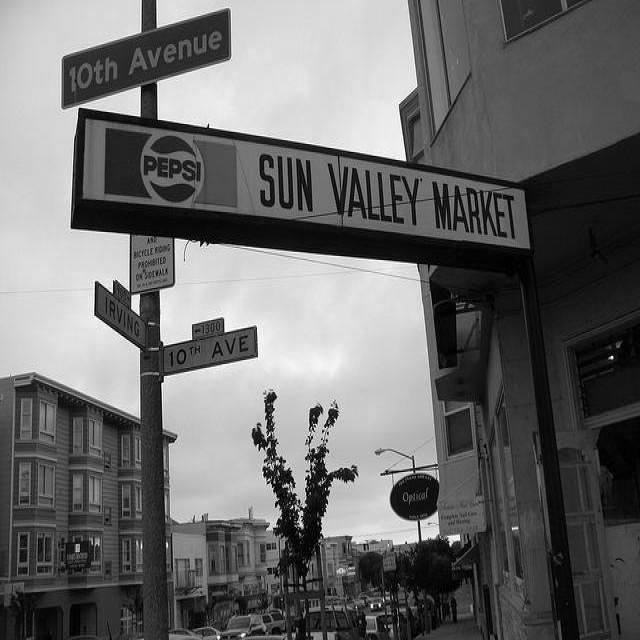vehicle: (309, 605, 360, 639), (216, 613, 268, 639), (377, 612, 407, 640), (366, 615, 391, 640), (261, 611, 285, 633), (190, 625, 223, 639), (169, 627, 203, 639), (370, 597, 386, 611), (359, 596, 375, 607), (350, 600, 363, 610), (269, 608, 283, 616), (385, 591, 393, 604)
